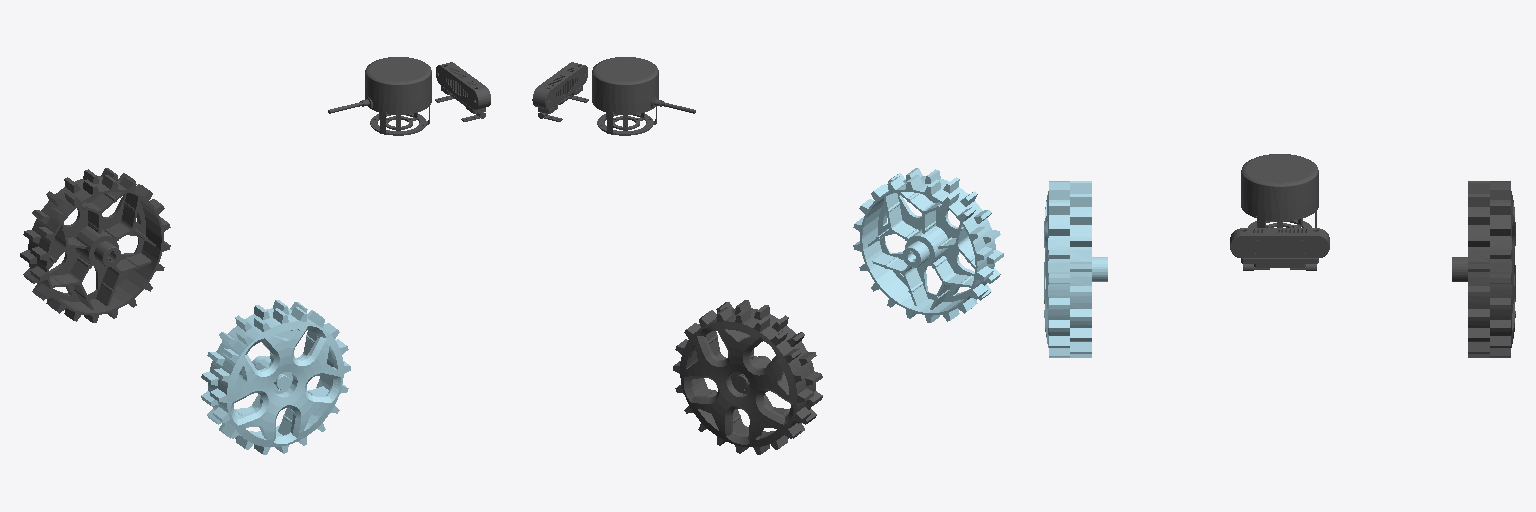
robot.urdf — brushless_senior_diff:
<?xml version="1.0" encoding="utf-8"?>
<!-- This URDF was automatically created by SolidWorks to URDF Exporter! Originally created by [author] ([email redacted]) 
     Commit Version: 1.6.0-4-g7f85cfe  Build Version: 1.6.7995.38578
     For more information, please see http://wiki.ros.org/sw_urdf_exporter -->
<robot
  name="brushless_senior_diff">
  <link
    name="base_link">
    <inertial>
      <origin
        xyz="-0.0424469101292318 -0.00969708702451111 0.115352514737036"
        rpy="0 0 0" />
      <mass
        value="6.68739846096177" />
      <inertia
        ixx="0.030526117501119"
        ixy="-0.000167780644719383"
        ixz="-0.00427357734732513"
        iyy="0.0339325346162789"
        iyz="-1.11619574072303E-06"
        izz="0.0537483941973775" />
    </inertial>
    <visual>
      <origin
        xyz="0 0 0"
        rpy="0 0 0" />
      <geometry>
        <mesh
          filename="package://wheeltec_robot_urdf/meshes/brushless_senior_diff_meshes/base_link.STL" />
      </geometry>
      <material
        name="">
        <color
          rgba="0.741176470588235 0.901960784313726 0.956862745098039 1" />
      </material>
    </visual>
    <collision>
      <origin
        xyz="0 0 0"
        rpy="0 0 0" />
      <geometry>
        <mesh
          filename="package://wheeltec_robot_urdf/meshes/brushless_senior_diff_meshes/base_link.STL" />
      </geometry>
    </collision>
  </link>
  <link
    name="lb_wheel_link">
    <inertial>
      <origin
        xyz="2.47041210994781E-07 0.00495036305166716 9.44784144598157E-06"
        rpy="0 0 0" />
      <mass
        value="0.327436213515774" />
      <inertia
        ixx="0.000713929308931744"
        ixy="-1.8343333407906E-09"
        ixz="1.6571694371827E-08"
        iyy="0.00131015458351941"
        iyz="3.03256240972014E-08"
        izz="0.00071400666665183" />
    </inertial>
    <visual>
      <origin
        xyz="0 0 0"
        rpy="0 0 0" />
      <geometry>
        <mesh
          filename="package://wheeltec_robot_urdf/meshes/brushless_senior_diff_meshes/lb_wheel_link.STL" />
      </geometry>
      <material
        name="">
        <color
          rgba="0.376470588235294 0.376470588235294 0.376470588235294 1" />
      </material>
    </visual>
    <collision>
      <origin
        xyz="0 0 0"
        rpy="0 0 0" />
      <geometry>
        <mesh
          filename="package://wheeltec_robot_urdf/meshes/brushless_senior_diff_meshes/lb_wheel_link.STL" />
      </geometry>
    </collision>
  </link>
  <joint
    name="lb_wheel_joint"
    type="continuous">
    <origin
      xyz="-0.188639266058778 0.213573 0.016176921922286"
      rpy="0 0 0" />
    <parent
      link="base_link" />
    <child
      link="lb_wheel_link" />
    <axis
      xyz="0 -1 0" />
    <dynamics
      damping="100"
      friction="100" />
  </joint>
  <link
    name="rb_wheel_link">
    <inertial>
      <origin
        xyz="-1.65029223331975E-07 -0.00495036366749957 9.44092341311625E-06"
        rpy="0 0 0" />
      <mass
        value="0.327436242159506" />
      <inertia
        ixx="0.000713929487253753"
        ixy="-1.8383182434554E-09"
        ixz="-1.66282086900089E-08"
        iyy="0.00131015472203341"
        iyz="-3.03407228998224E-08"
        izz="0.000714006629310361" />
    </inertial>
    <visual>
      <origin
        xyz="0 0 0"
        rpy="0 0 0" />
      <geometry>
        <mesh
          filename="package://wheeltec_robot_urdf/meshes/brushless_senior_diff_meshes/rb_wheel_link.STL" />
      </geometry>
      <material
        name="">
        <color
          rgba="0.741176470588235 0.901960784313726 0.956862745098039 1" />
      </material>
    </visual>
    <collision>
      <origin
        xyz="0 0 0"
        rpy="0 0 0" />
      <geometry>
        <mesh
          filename="package://wheeltec_robot_urdf/meshes/brushless_senior_diff_meshes/rb_wheel_link.STL" />
      </geometry>
    </collision>
  </link>
  <joint
    name="rb_wheel_joint"
    type="continuous">
    <origin
      xyz="-0.188639266058778 -0.213573 0.016176921922286"
      rpy="0 0 0" />
    <parent
      link="base_link" />
    <child
      link="rb_wheel_link" />
    <axis
      xyz="0 1 0" />
    <dynamics
      damping="100"
      friction="100" />
  </joint>
  <link
    name="camera_link">
    <inertial>
      <origin
        xyz="4.74349649337569E-07 2.24930421104748E-07 -0.00699984021654487"
        rpy="0 0 0" />
      <mass
        value="0.0225531117355389" />
      <inertia
        ixx="1.64134349365822E-05"
        ixy="2.20860838140145E-09"
        ixz="7.59285211713348E-09"
        iyy="1.40668273876307E-06"
        iyz="7.30398212709695E-09"
        izz="1.58739295808283E-05" />
    </inertial>
    <visual>
      <origin
        xyz="0 0 0"
        rpy="0 0 0" />
      <geometry>
        <mesh
          filename="package://wheeltec_robot_urdf/meshes/brushless_senior_diff_meshes/camera_link.STL" />
      </geometry>
      <material
        name="">
        <color
          rgba="0.376470588235294 0.376470588235294 0.376470588235294 1" />
      </material>
    </visual>
    <collision>
      <origin
        xyz="0 0 0"
        rpy="0 0 0" />
      <geometry>
        <mesh
          filename="package://wheeltec_robot_urdf/meshes/brushless_senior_diff_meshes/camera_link.STL" />
      </geometry>
    </collision>
  </link>
  <joint
    name="camera_joint"
    type="fixed">
    <origin
      xyz="0.190243733941222 -0.000234999999999987 0.220221921922286"
      rpy="0 0 0" />
    <parent
      link="base_link" />
    <child
      link="camera_link" />
    <axis
      xyz="0 0 0" />
  </joint>
  <link
    name="laser_link">
    <inertial>
      <origin
        xyz="0.00178645988443693 -3.03002020384401E-06 -0.00220244097062422"
        rpy="0 0 0" />
      <mass
        value="0.0525133534269945" />
      <inertia
        ixx="3.5707507087464E-05"
        ixy="-3.73931185793229E-09"
        ixz="1.07118523896704E-06"
        iyy="4.12747717480446E-05"
        iyz="7.35438624249993E-10"
        izz="5.81937599648018E-05" />
    </inertial>
    <visual>
      <origin
        xyz="0 0 0"
        rpy="0 0 0" />
      <geometry>
        <mesh
          filename="package://wheeltec_robot_urdf/meshes/brushless_senior_diff_meshes/laser.STL" />
      </geometry>
      <material
        name="">
        <color
          rgba="0.376470588235294 0.376470588235294 0.376470588235294 1" />
      </material>
    </visual>
    <collision>
      <origin
        xyz="0 0 0"
        rpy="0 0 0" />
      <geometry>
        <mesh
          filename="package://wheeltec_robot_urdf/meshes/brushless_senior_diff_meshes/laser.STL" />
      </geometry>
    </collision>
  </link>
  <joint
    name="laser_joint"
    type="fixed">
    <origin
      xyz="0.101154812773979 0 0.236182105663717"
      rpy="0 0 -3.14159265358979" />
    <parent
      link="base_link" />
    <child
      link="laser_link" />
    <axis
      xyz="0 0 0" />
  </joint>
  <link
    name="controller_link">
    <inertial>
      <origin
        xyz="-0.053903036889008 0.0534424103477666 0.00212517657143976"
        rpy="0 0 0" />
      <mass
        value="0.0207979393257728" />
      <inertia
        ixx="5.91820104197495E-06"
        ixy="-2.31247274021234E-07"
        ixz="1.37177009629614E-06"
        iyy="1.38986311204689E-05"
        iyz="1.2427751412565E-07"
        izz="1.85561975351842E-05" />
    </inertial>
    <visual>
      <origin
        xyz="0 0 0"
        rpy="0 0 0" />
      <geometry>
        <mesh
          filename="package://wheeltec_robot_urdf/meshes/brushless_senior_diff_meshes/controller_link.STL" />
      </geometry>
      <material
        name="">
        <color
          rgba="0.741176470588235 0.901960784313726 0.956862745098039 1" />
      </material>
    </visual>
    <collision>
      <origin
        xyz="0 0 0"
        rpy="0 0 0" />
      <geometry>
        <mesh
          filename="package://wheeltec_robot_urdf/meshes/brushless_senior_diff_meshes/controller_link.STL" />
      </geometry>
    </collision>
  </link>
  <joint
    name="controller_joint"
    type="fixed">
    <origin
      xyz="0.113281206629993 0.0622012251396801 0.125099999999996"
      rpy="0 0 0" />
    <parent
      link="base_link" />
    <child
      link="controller_link" />
    <axis
      xyz="0 0 0" />
  </joint>
</robot>

--- What the picture shows (computed from the rendered views, not written in the file) ---
3 views of the same robot in one strip: view 1: azimuth 30°, elevation 25°; view 2: azimuth 150°, elevation 25°; view 3: azimuth 270°, elevation 25° (orthographic).
Robot: brushless_senior_diff — 6 links, 5 joints (2 continuous, 3 fixed); root link base_link; default pose: all joints at 0.
Visible links, largest first — view 1: rb_wheel_link, lb_wheel_link, laser_link, camera_link; view 2: lb_wheel_link, rb_wheel_link, laser_link, camera_link; view 3: rb_wheel_link, lb_wheel_link, laser_link, camera_link.
Link boxes in pixels (<box>): rb_wheel_link: <box>201,300,350,454</box>; lb_wheel_link: <box>20,168,170,322</box>; laser_link: <box>328,57,431,135</box>; camera_link: <box>435,62,490,121</box>; lb_wheel_link: <box>673,300,822,454</box>; rb_wheel_link: <box>853,168,1003,322</box>; laser_link: <box>592,57,695,135</box>; camera_link: <box>532,62,588,121</box>; rb_wheel_link: <box>1044,181,1107,357</box>; lb_wheel_link: <box>1452,181,1515,357</box>; laser_link: <box>1241,154,1318,227</box>; camera_link: <box>1230,228,1329,270</box>.
Size in the robot's own frame: 0.4774 by 0.4776 by 0.3379 metres.
Meshes: 6 distinct files referenced, 4 mesh visuals loaded (4 binary STL); not drawn: 2 (reference not matched to a file when rendering).